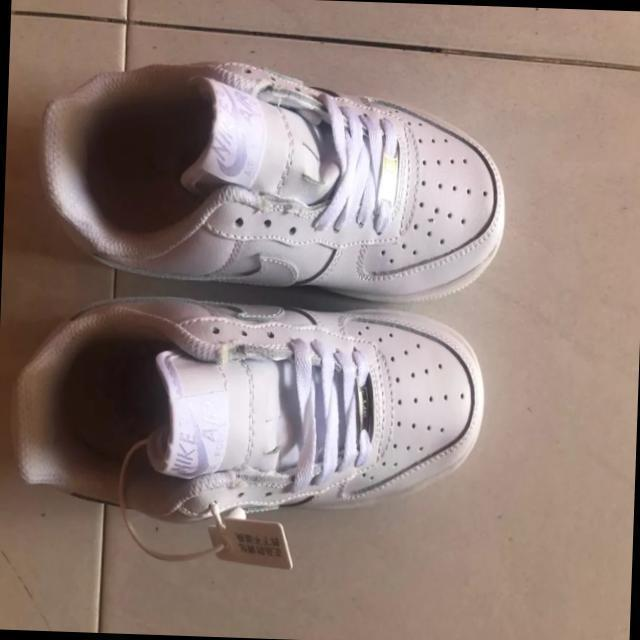nike fake air force: (36, 47, 514, 310), (4, 288, 488, 528)
